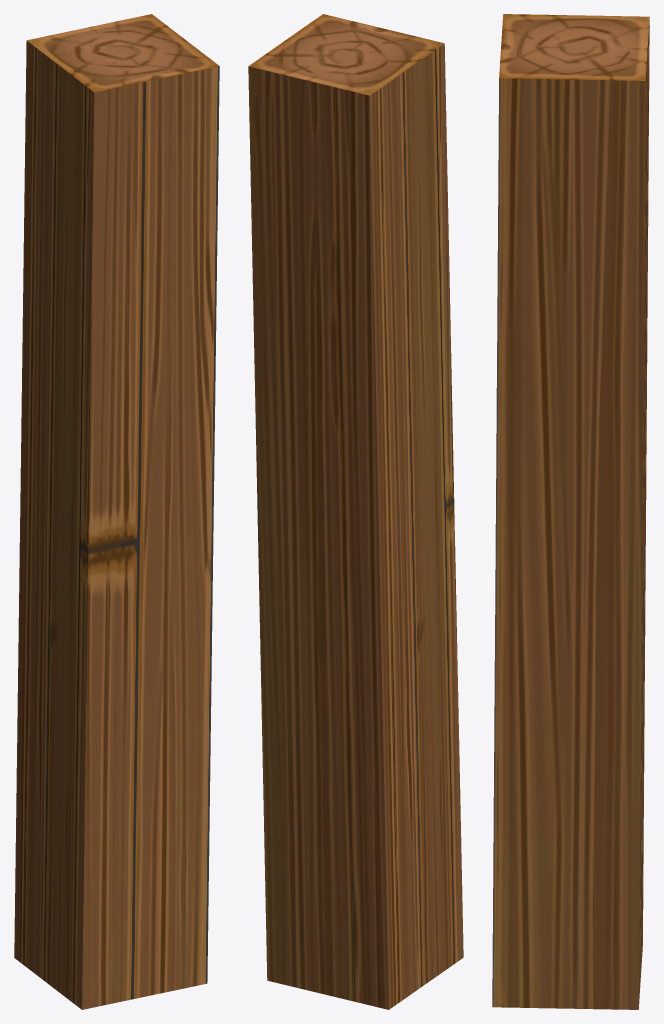
The picture shows the model from 3 angles, left to right: view 1: azimuth 30°, elevation 25°; view 2: azimuth 150°, elevation 25°; view 3: azimuth 270°, elevation 25°; orthographic projection. The views are drawn at different scales.
Visible parts, largest first — view 1: Cube.405; view 2: Cube.405; view 3: Cube.405.
Part boxes in pixels (x1,y1,x2,y2): Cube.405: [14, 14, 219, 1009]; Cube.405: [248, 14, 463, 1009]; Cube.405: [492, 14, 649, 1009].
Size of the model in its own units: 27.15 by 167 by 25.28.
1 material, 1 textured.
